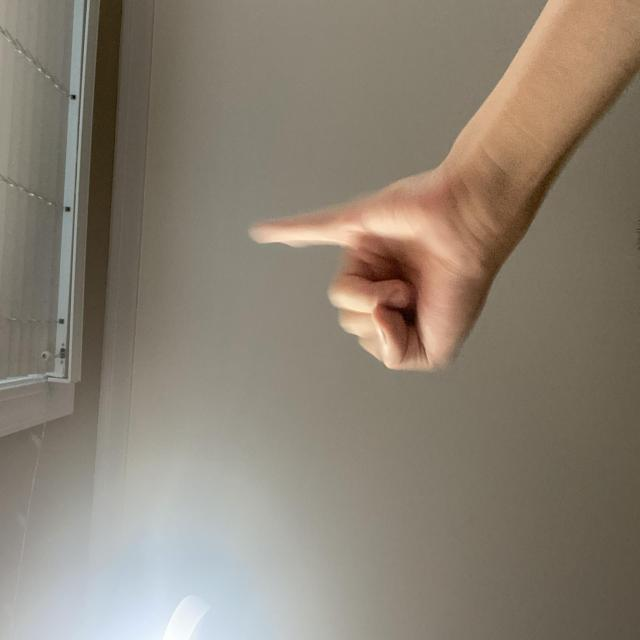I: (192, 319, 360, 640)
